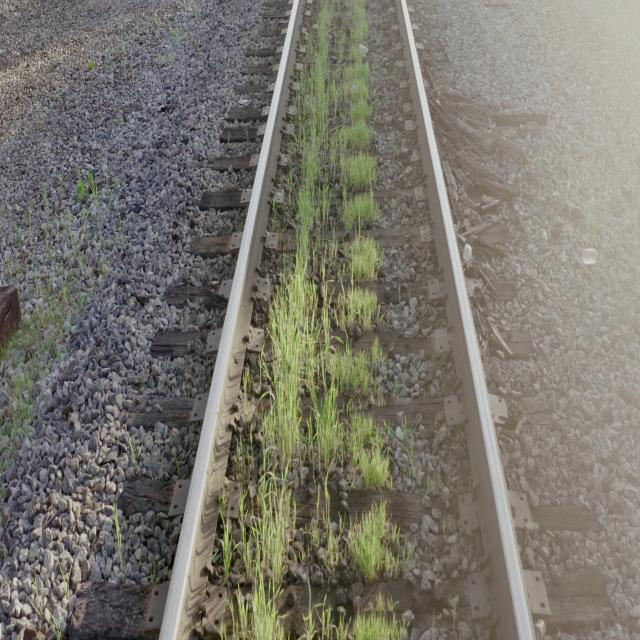Plant: (230, 0, 391, 640), (342, 502, 410, 582), (332, 233, 381, 336), (301, 602, 408, 640), (354, 609, 406, 640), (222, 531, 230, 580)
